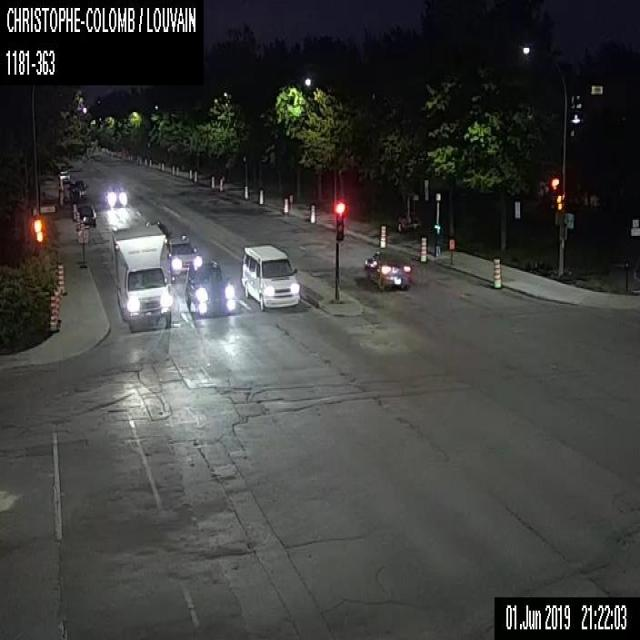construction: (397, 179, 421, 233), (76, 229, 88, 267), (49, 295, 59, 331), (56, 262, 66, 294), (492, 257, 500, 288), (53, 290, 61, 321), (448, 236, 455, 263), (419, 238, 426, 262), (379, 225, 386, 247), (55, 297, 60, 326), (75, 210, 80, 230), (282, 198, 288, 214), (309, 206, 315, 222), (288, 193, 294, 209), (59, 186, 63, 206), (72, 202, 76, 222), (258, 188, 263, 203), (188, 168, 192, 180), (244, 185, 247, 199), (211, 175, 214, 188), (219, 178, 222, 191), (194, 169, 197, 181), (171, 164, 174, 175), (176, 165, 179, 176), (158, 160, 161, 169), (80, 222, 84, 228), (161, 161, 163, 170), (149, 158, 151, 166), (144, 157, 146, 165)
vehicle: (111, 223, 172, 331), (239, 243, 299, 309), (184, 260, 234, 313), (363, 251, 412, 289), (166, 235, 202, 273), (102, 180, 126, 208), (76, 202, 98, 229), (143, 220, 172, 240), (68, 178, 89, 202), (58, 169, 69, 179)
